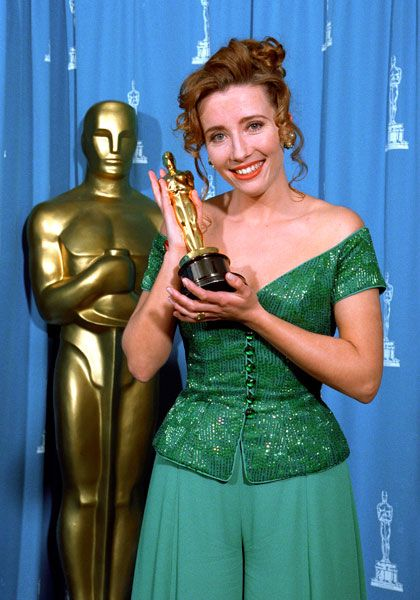hand: (173, 278, 260, 321)
